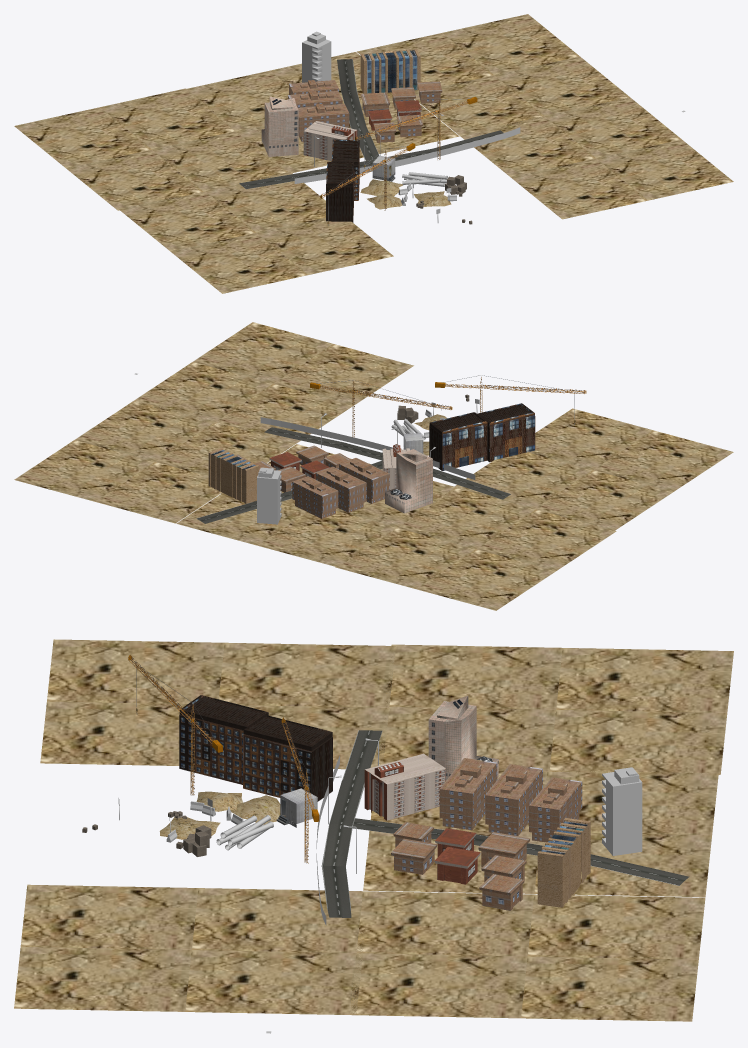
The model's file is Riyad.fbx.
The picture shows the model from 3 angles, top to bottom: view 1: azimuth 30°, elevation 25°; view 2: azimuth 150°, elevation 25°; view 3: azimuth 270°, elevation 25°; orthographic projection. The views are drawn at different scales.
Parts seen in each view (by area): view 1: Environmant_riyad; view 2: Environmant_riyad; view 3: Environmant_riyad.
Boxes of the visible parts, left/top/right/bottom form: Environmant_riyad: left=14, top=14, right=733, bottom=293; Environmant_riyad: left=14, top=322, right=733, bottom=610; Environmant_riyad: left=14, top=639, right=733, bottom=1033.
Bounding box in the file's own units: 38594 × 4406 × 29716.
